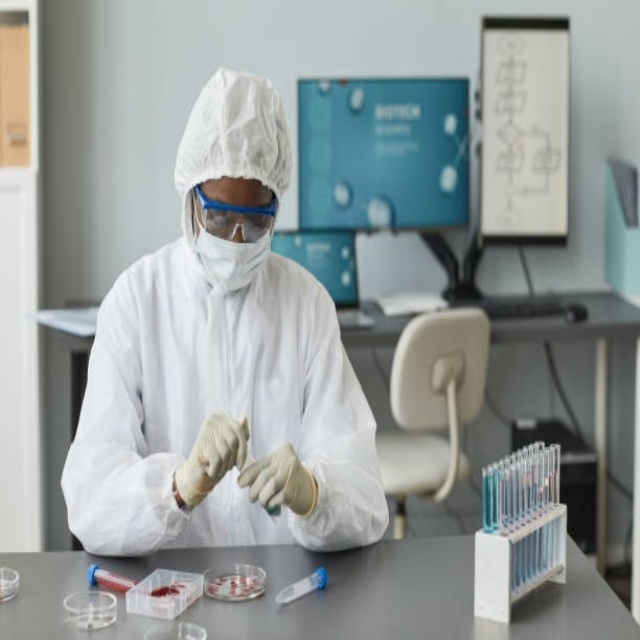Gafas: (194, 187, 277, 246)
Guantes: (174, 411, 248, 506), (237, 441, 318, 518)
Mascara: (193, 213, 275, 298)
